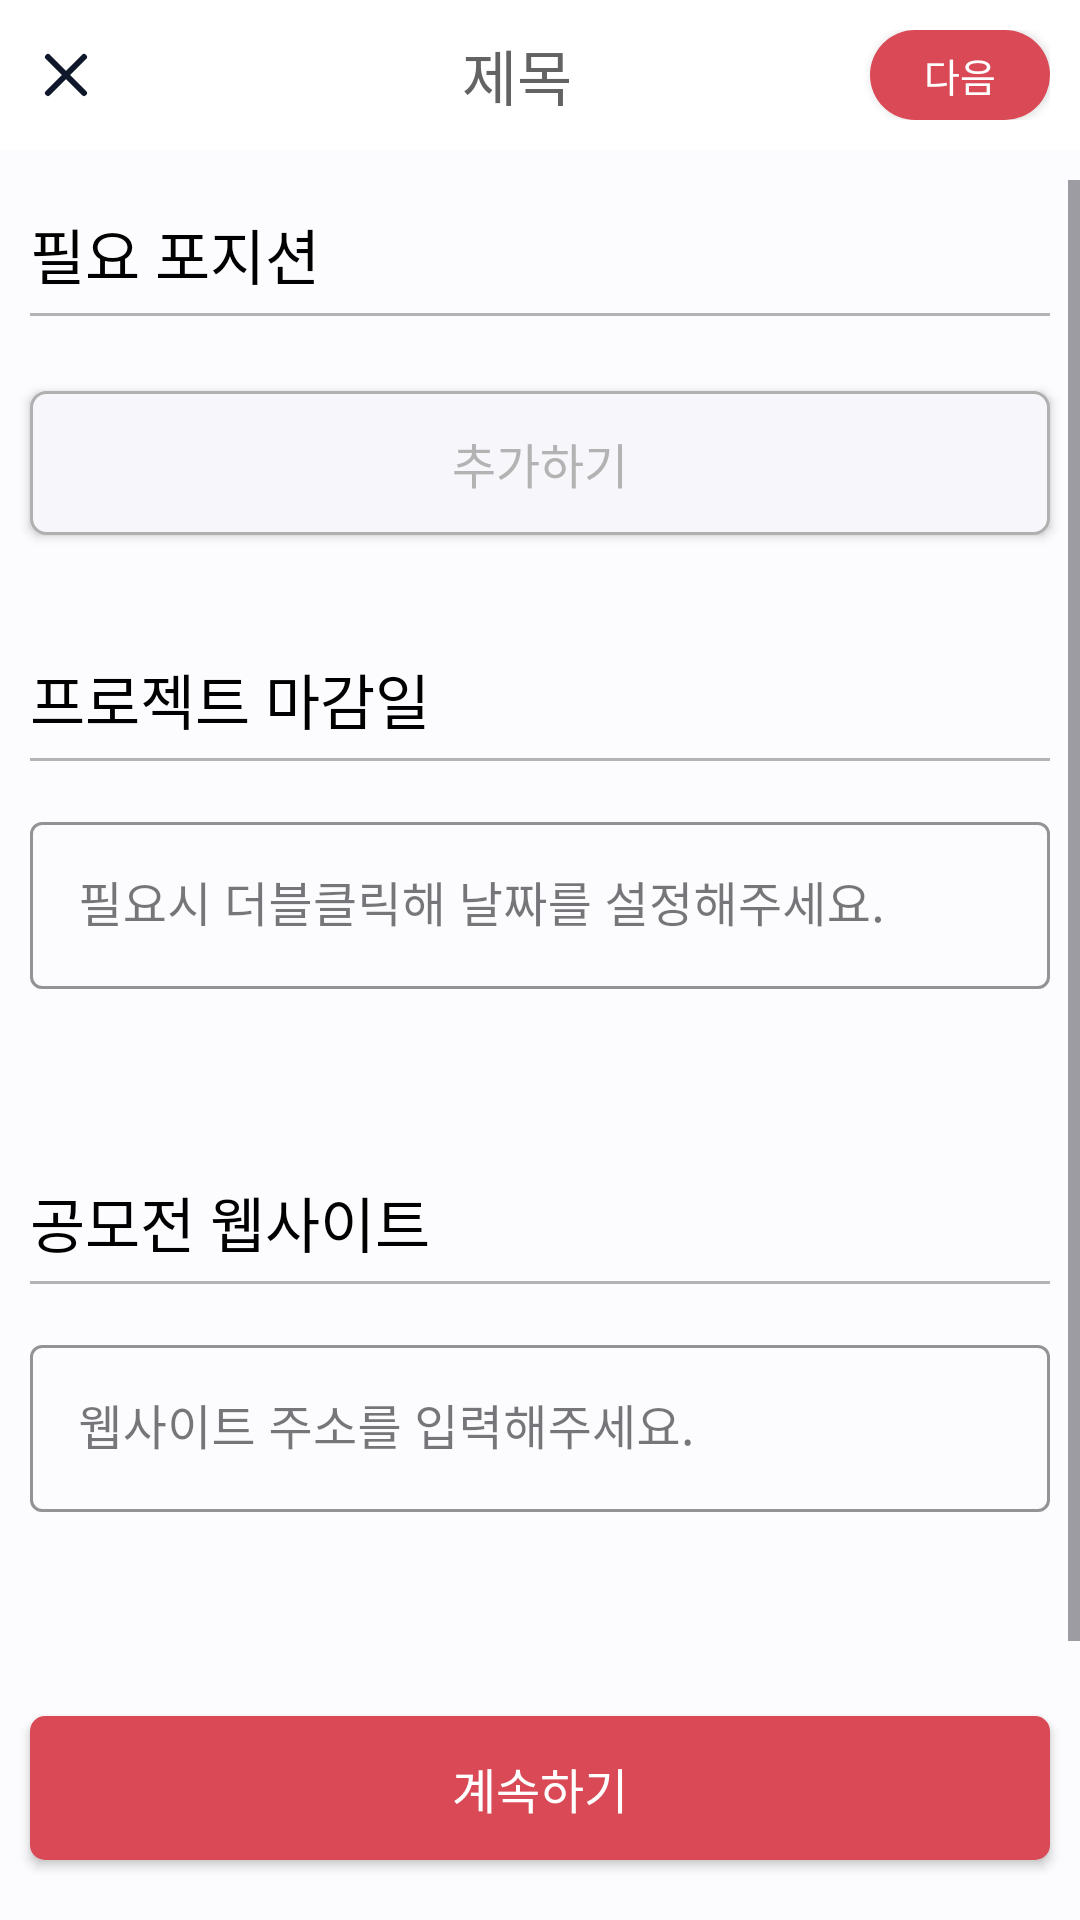

Screen size 1080×1920. Icon name, then its center in pixels as (x,y):
delete: (66,74)
